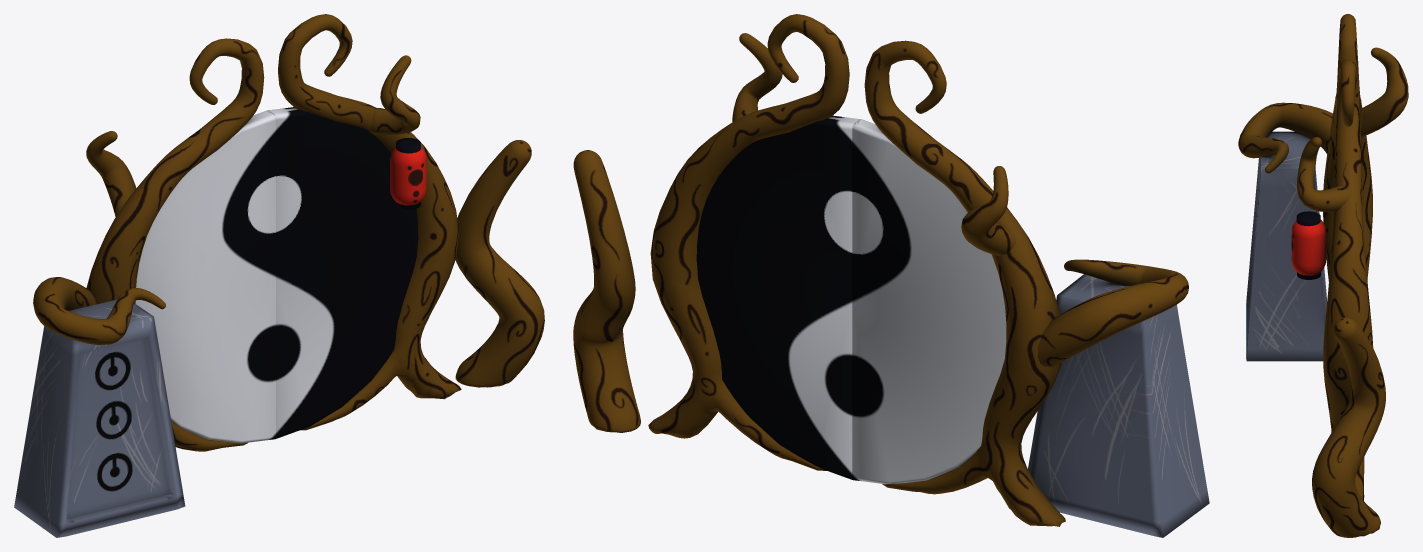
Rendered from gate_low.fbx.
3 views of the same model, side by side, from view 1: azimuth 30°, elevation 25°; view 2: azimuth 150°, elevation 25°; view 3: azimuth 270°, elevation 25° (orthographic). The views are drawn at different scales.
Parts seen in each view (by area): view 1: tuer_rechts, tuer_links, stein, aeste, torbogen, torbogen1, lampe; view 2: tuer_rechts, tuer_links, stein, aeste, torbogen1, torbogen; view 3: aeste, stein, torbogen, torbogen1, lampe, lampe_halterung.
Part boxes in pixels (x1,y1,x2,y2): tuer_rechts: [269, 107, 418, 438]; tuer_links: [135, 110, 275, 443]; stein: [14, 299, 185, 537]; aeste: [33, 55, 544, 387]; torbogen: [278, 14, 461, 430]; torbogen1: [86, 38, 264, 451]; lampe: [390, 146, 426, 205]; tuer_rechts: [696, 115, 859, 479]; tuer_links: [852, 119, 1006, 484]; stein: [1028, 274, 1209, 537]; aeste: [573, 33, 1188, 432]; torbogen1: [864, 40, 1065, 526]; torbogen: [648, 14, 849, 470]; aeste: [1238, 47, 1408, 537]; stein: [1246, 131, 1327, 361]; torbogen: [1323, 59, 1373, 500]; torbogen1: [1323, 14, 1372, 281]; lampe: [1291, 219, 1326, 275]; lampe_halterung: [1296, 211, 1320, 279].
Bounding box in the file's own units: 120 × 88.75 × 35.11.
